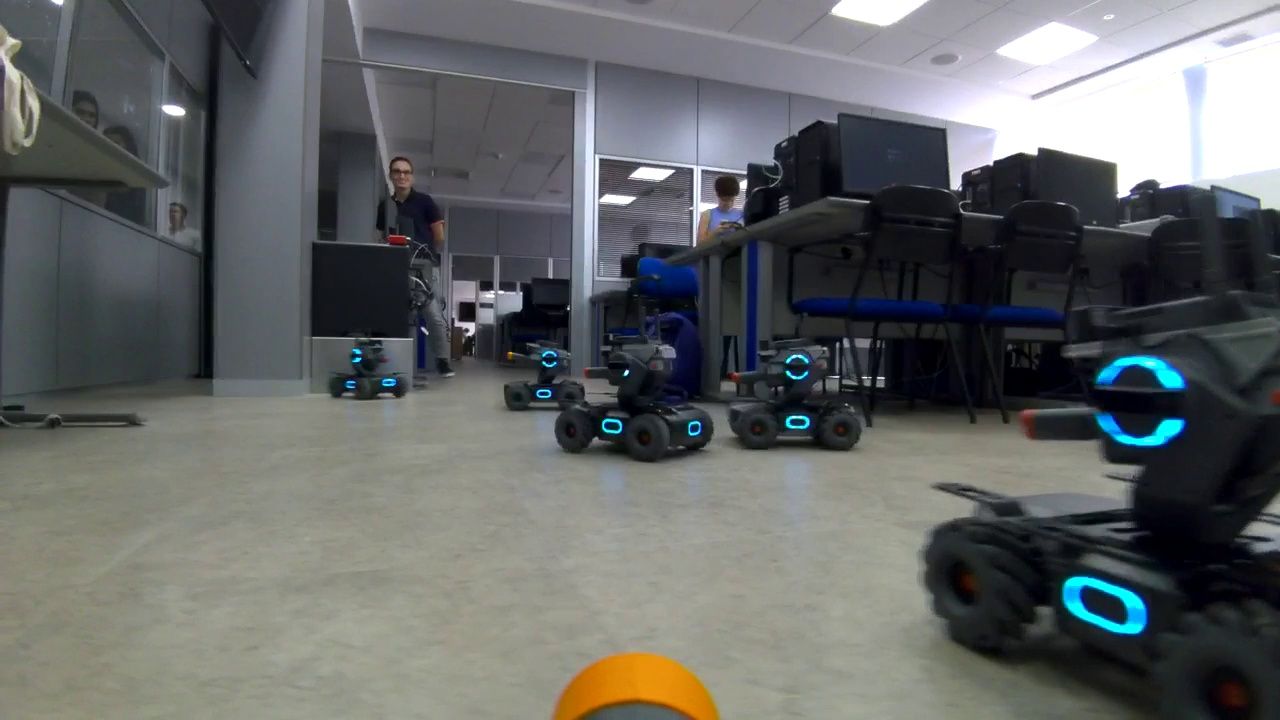robot: (920, 298, 1280, 720), (551, 303, 717, 462), (738, 308, 859, 455), (481, 326, 591, 410), (327, 328, 416, 414)
